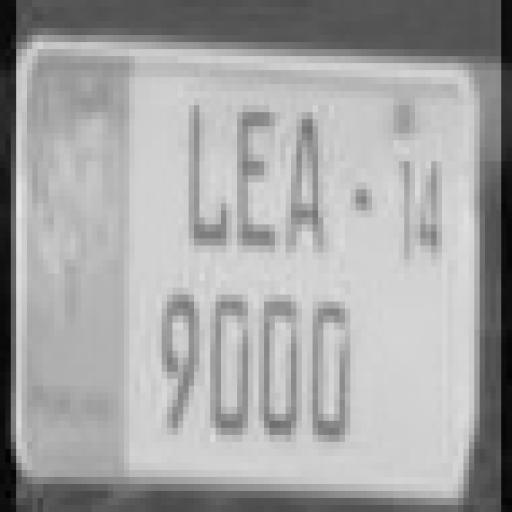0: (308, 295, 357, 452), (258, 284, 300, 442), (209, 288, 251, 438)
9: (158, 292, 200, 425)
A: (288, 112, 334, 262)
E: (238, 100, 278, 254)
L: (188, 100, 231, 250)
